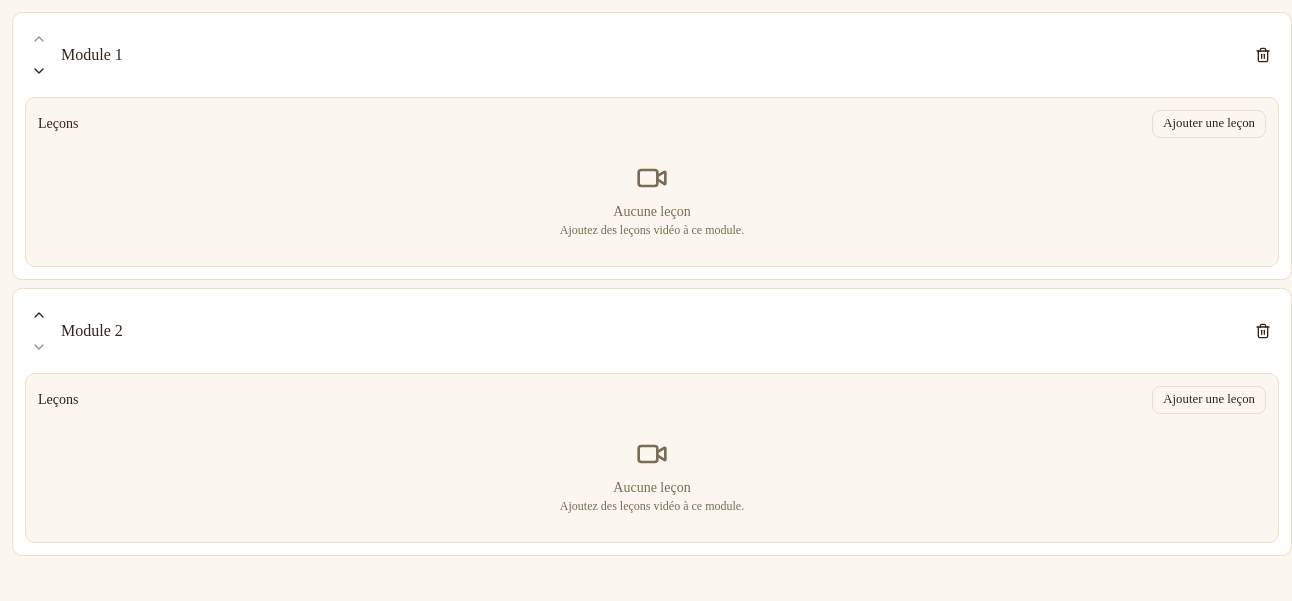
ModuleList error handling › rolls back a failed reorder and shows the error
Click the 1st button named "Descendre le module" at x=39, y=71, box [25, 57, 53, 85]
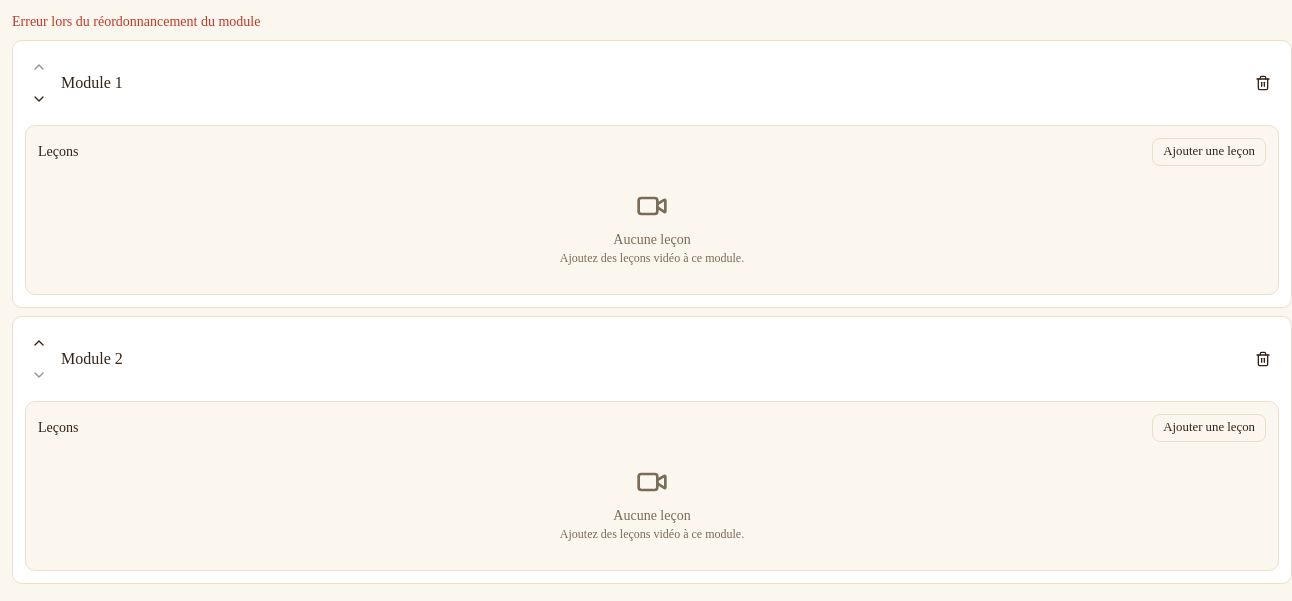
Now the message shows "réordonnancement", box [12, 14, 260, 29]
